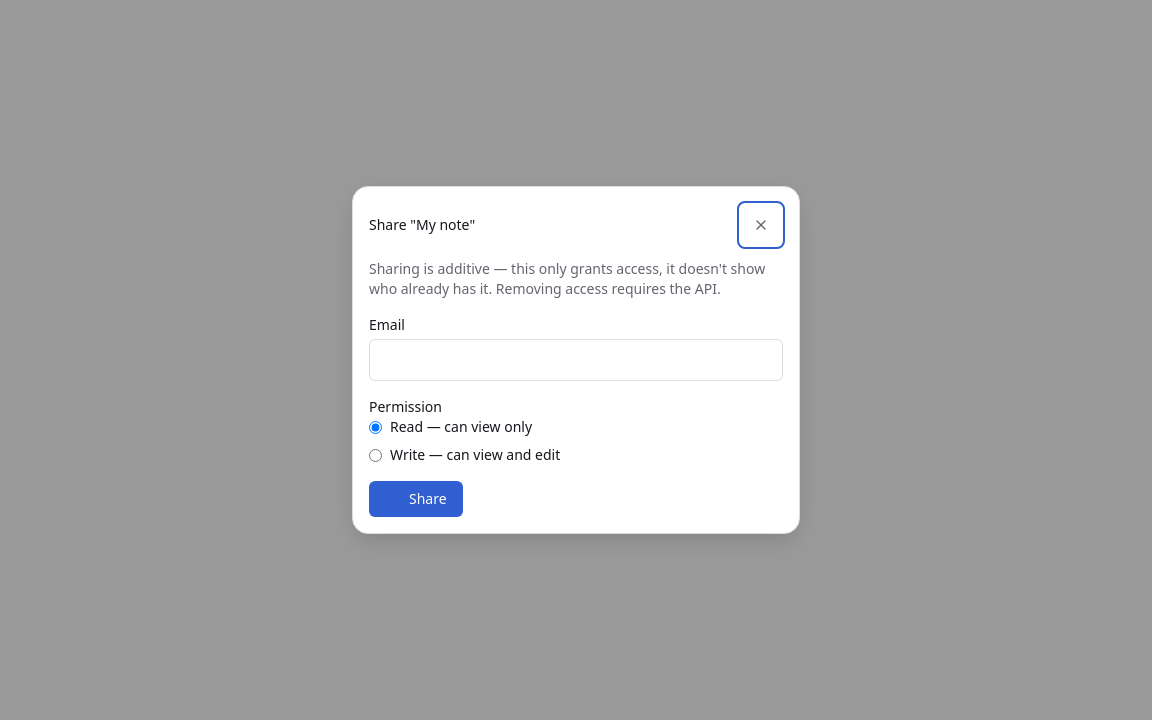
403 closes the dialog and shows a toast
In the field labelled "Email": {"x": 576, "y": 360} [369,339,783,381], type "someone@example.com"
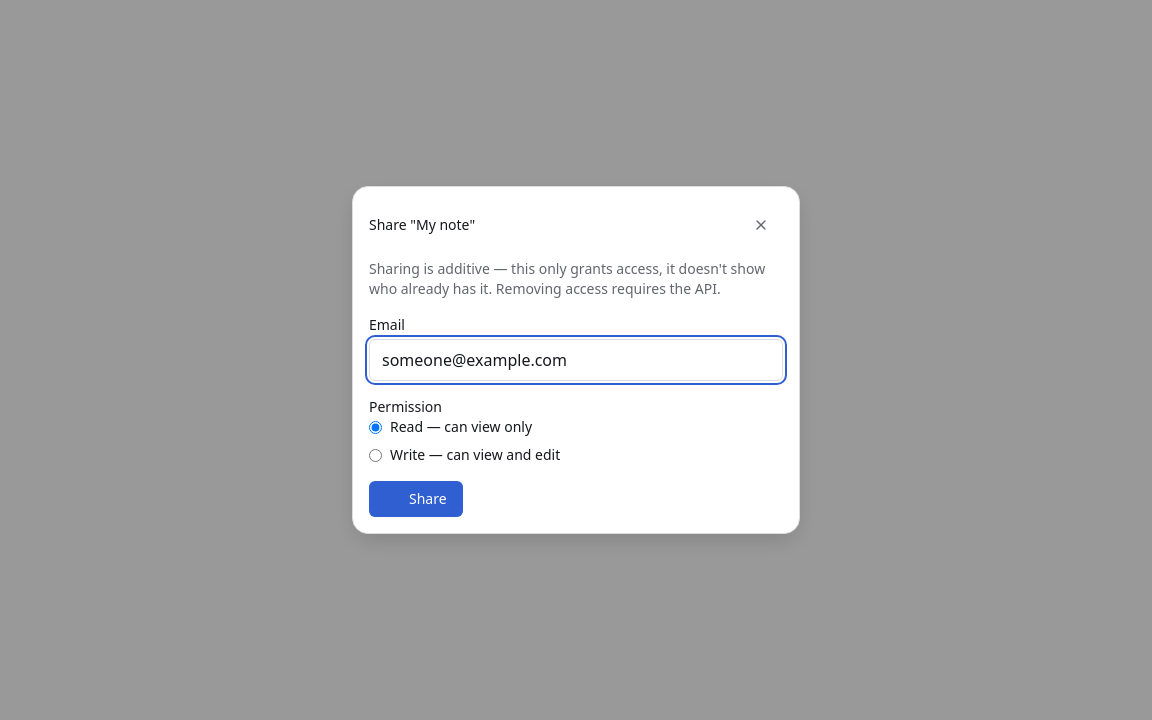
Click the button "Share": {"x": 416, "y": 499} [369,481,463,517]
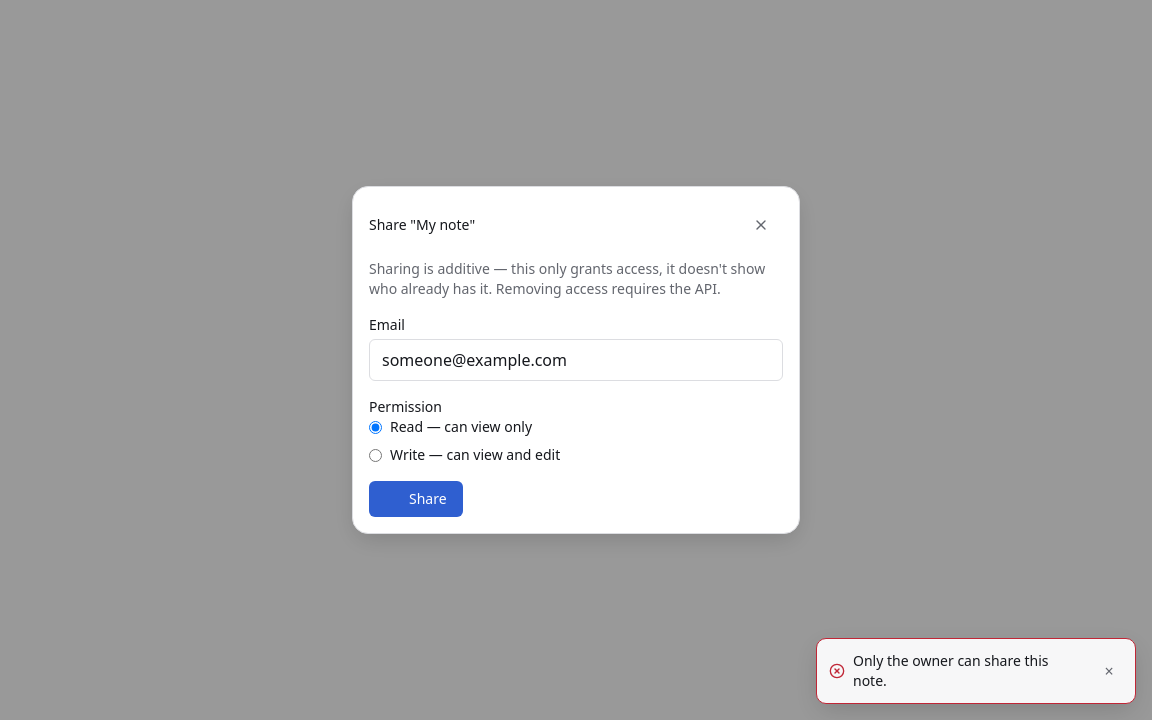
Check: the text "Only the owner can share this note." is shown, box [853,651,1079,691]
